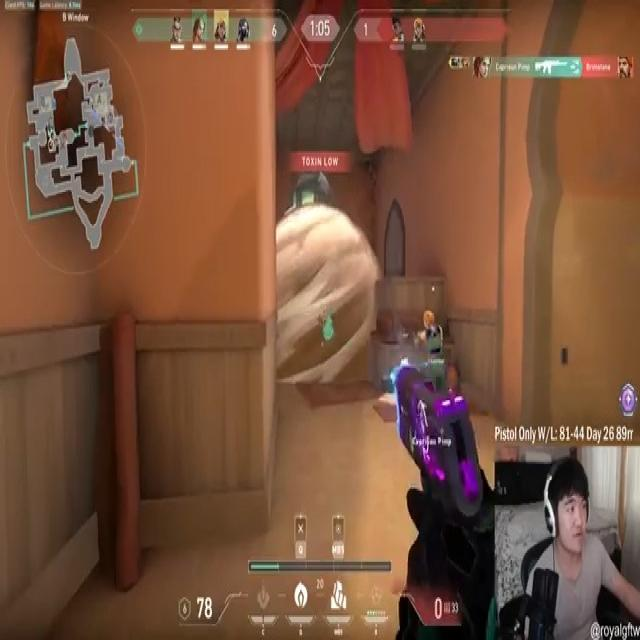ally: (410, 311, 447, 387)
smoke: (276, 210, 380, 382)
spike: (382, 371, 396, 407)
